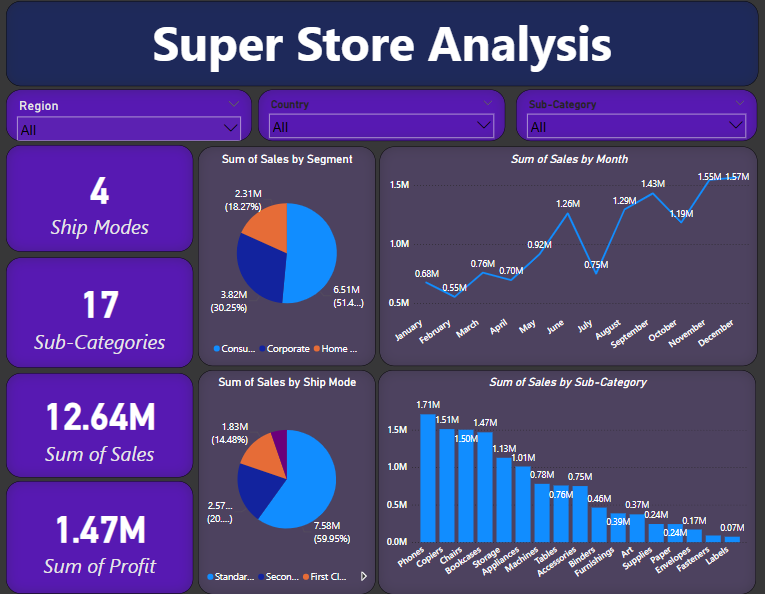

This screenshot's page, from the dashboard's own definition file:
{"tool":"powerbi","page":{"name":"Page 1","canvas":[1280,1000],"ordinal":0},"visuals":[{"type":"columnChart","fields":{"Category":["Orders.Sub-Category"],"Y":["Sum(Orders.Sales)"]},"box":[636,620,630,374],"z":0},{"type":"lineChart","fields":{"Category":["Orders.Order Date.Variation.Date Hierarchy.Month"],"Y":["Sum(Orders.Sales)"]},"box":[638,248,630,366],"z":1000},{"type":"pieChart","fields":{"Y":["Sum(Orders.Sales)"],"Category":["Orders.Segment"]},"box":[334,248,296,366],"z":2000},{"type":"pieChart","fields":{"Y":["Sum(Orders.Sales)"],"Category":["Orders.Ship Mode"]},"box":[334,620,296,374],"z":3000},{"type":"slicer","fields":{"Values":["Orders.Region"]},"box":[14,152,410,86],"z":5000},{"type":"slicer","fields":{"Values":["Orders.Country"]},"box":[436,152,412,86],"z":6000},{"type":"slicer","fields":{"Values":["Orders.Sub-Category"]},"box":[864,152,402,86],"z":7000},{"type":"card","fields":{"Values":["Count(Orders.Ship Mode)"]},"box":[14,246,312,178],"z":8000},{"type":"card","fields":{"Values":["Count(Orders.Sub-Category)"]},"box":[14,432,312,184],"z":9000},{"type":"card","fields":{"Values":["Sum(Orders.Sales)"]},"box":[14,624,312,174],"z":10000},{"type":"card","fields":{"Values":["Sum(Orders.Profit)"]},"box":[14,806,312,188],"z":11000},{"type":"textbox","box":[14,4,1254,142],"z":12000}]}

Visuals, with their boxes in screenshot pixels (x1, y1, x2, y2), scaled from the page's 1280x1000 canvas onto the 765x594 screenshot:
columnChart - Orders.Sub-Category x Sum(Orders.Sales): box(380, 368, 757, 590)
lineChart - Orders.Order Date.Variation.Date Hierarchy.Month x Sum(Orders.Sales): box(381, 147, 758, 365)
pieChart - Sum(Orders.Sales) x Orders.Segment: box(200, 147, 377, 365)
pieChart - Sum(Orders.Sales) x Orders.Ship Mode: box(200, 368, 377, 590)
slicer - Orders.Region: box(8, 90, 253, 141)
slicer - Orders.Country: box(261, 90, 507, 141)
slicer - Orders.Sub-Category: box(516, 90, 757, 141)
card - Count(Orders.Ship Mode): box(8, 146, 195, 252)
card - Count(Orders.Sub-Category): box(8, 257, 195, 366)
card - Sum(Orders.Sales): box(8, 371, 195, 474)
card - Sum(Orders.Profit): box(8, 479, 195, 590)
textbox: box(8, 2, 758, 87)
